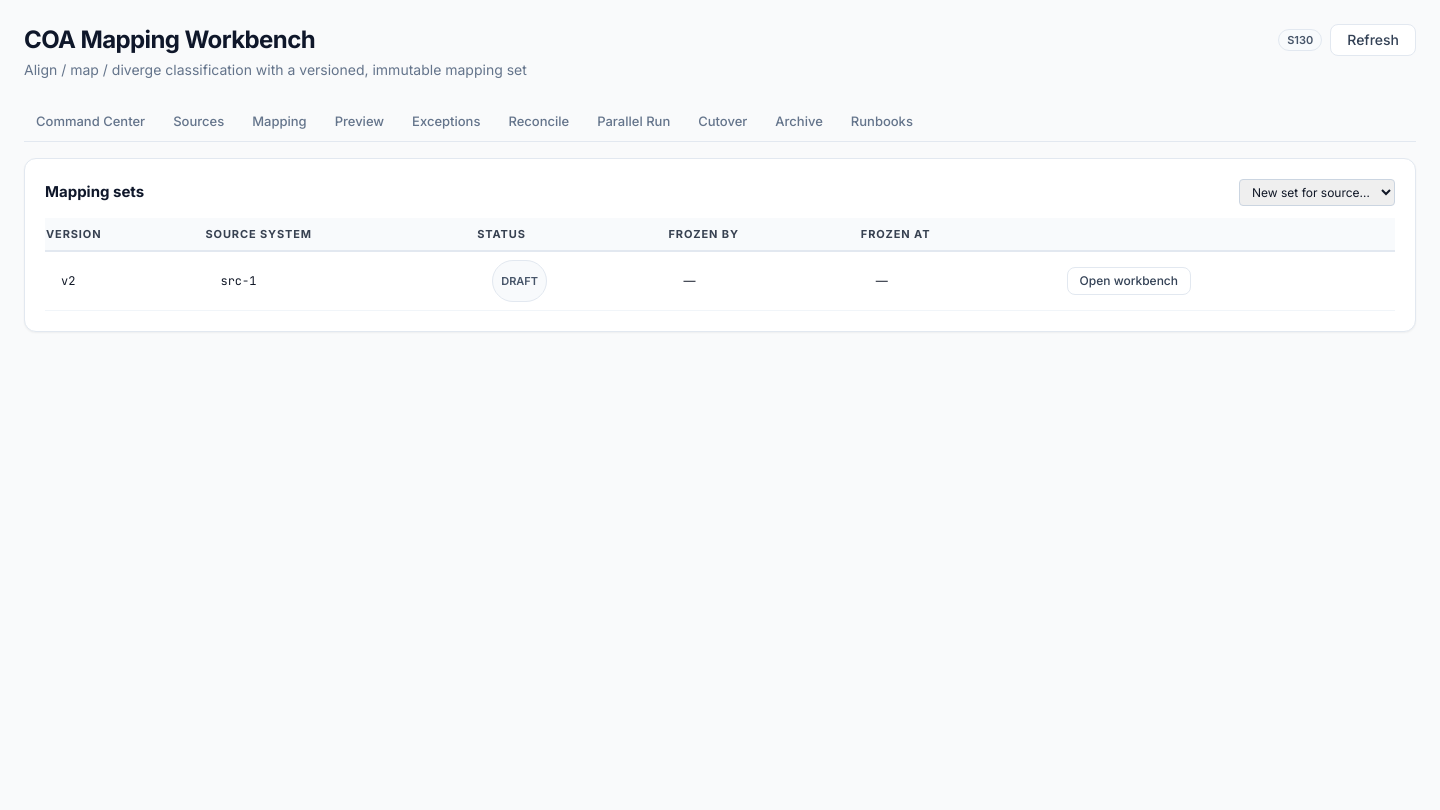
MigrationMapping › shows incomplete coverage as blocking, with the manual-review count
Click the button with test id "mapping-set-open-ms-1". click: (1129, 281)
box: [1066,267,1191,295]
(page scrolled)
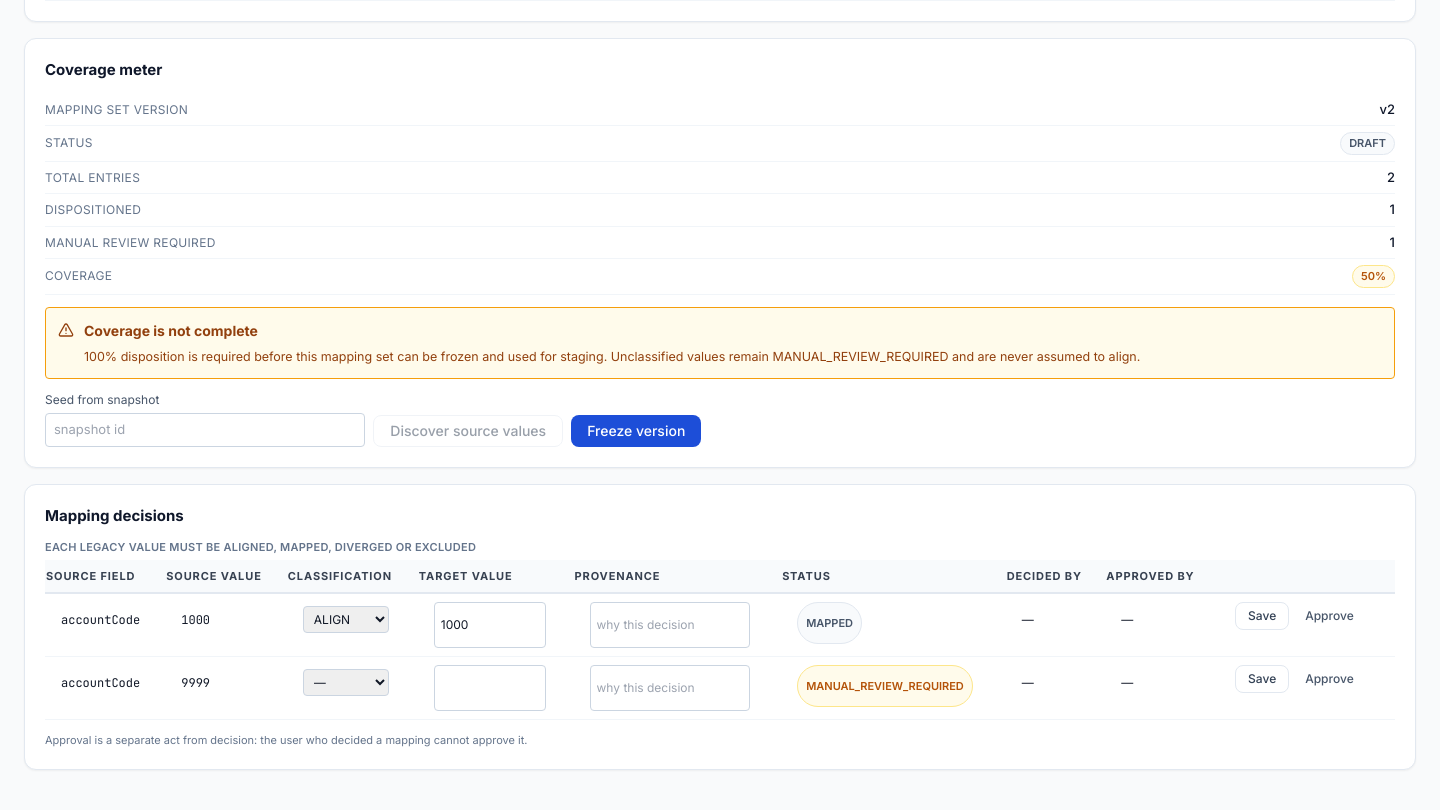
expect the element with test id "coverage-percent" shows "50": met, box [1361,269,1375,283]
expect the text with test id "coverage-manual-review" reads "1": met, box [1390,234,1395,250]
expect the element with test id "coverage-incomplete" is shown: met, box [45,306,1395,379]
